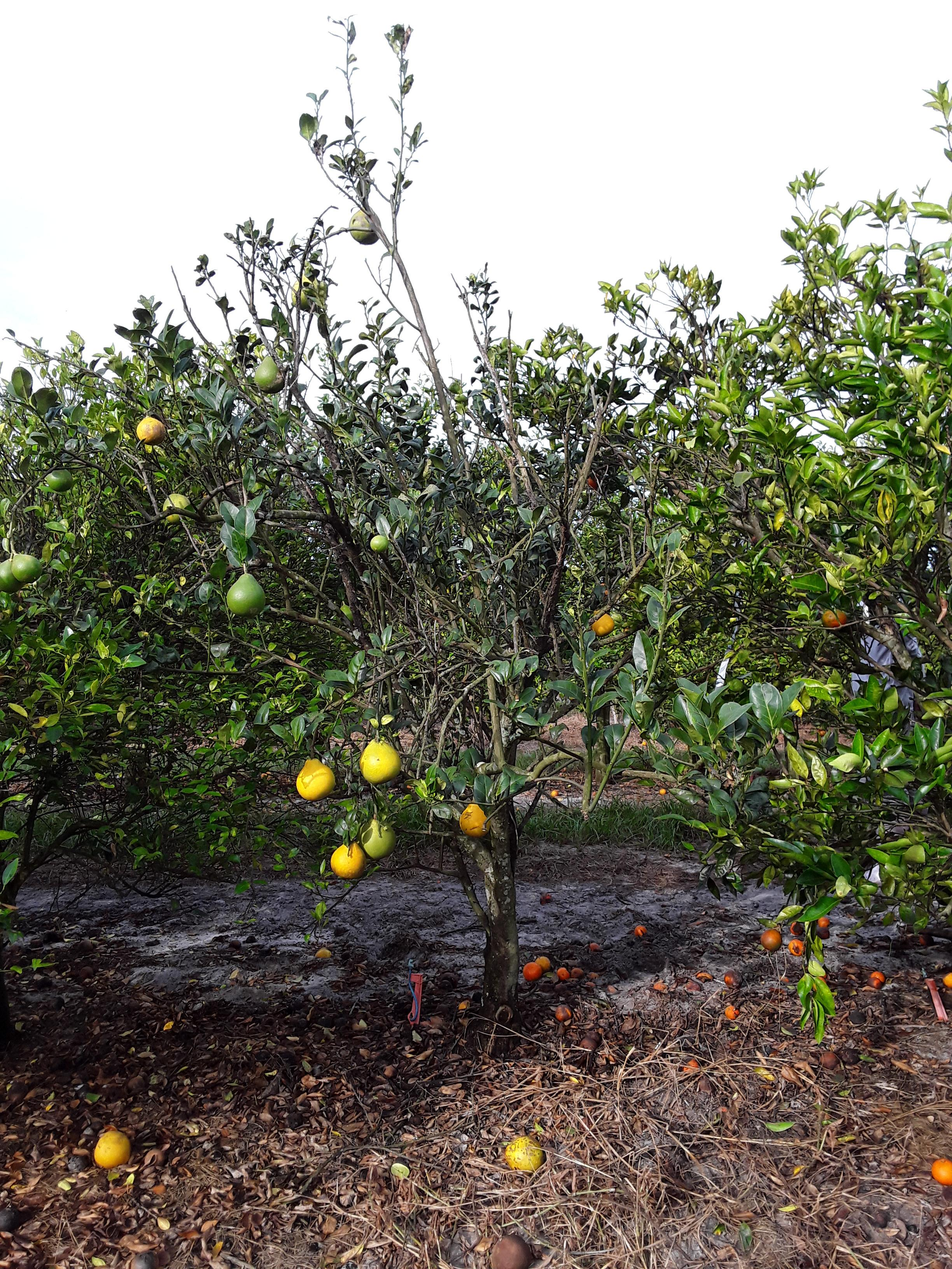fruit_on_ground: (353, 731, 404, 788), (224, 568, 274, 620), (340, 199, 391, 247), (283, 268, 332, 317), (290, 754, 341, 798), (329, 830, 366, 889), (253, 350, 292, 395), (362, 818, 397, 865), (450, 800, 492, 837), (11, 545, 47, 587), (131, 412, 172, 446), (156, 491, 193, 526), (0, 546, 19, 596), (593, 602, 620, 637), (45, 465, 79, 491), (819, 607, 852, 630), (364, 531, 394, 554), (759, 926, 783, 953), (583, 471, 609, 495)
fruit_on_tree: (504, 1132, 547, 1183), (88, 1127, 137, 1168), (489, 1227, 529, 1269), (929, 1154, 952, 1190), (723, 968, 746, 992), (4, 1204, 28, 1227), (134, 1249, 160, 1269), (534, 956, 560, 974), (520, 961, 543, 981), (678, 1055, 701, 1075), (579, 1033, 599, 1054), (840, 1045, 861, 1064), (819, 1049, 839, 1068), (284, 1112, 302, 1131), (553, 1004, 573, 1021), (586, 1025, 603, 1045), (871, 968, 889, 986), (788, 940, 807, 957), (723, 1005, 743, 1020), (556, 967, 572, 984), (790, 921, 805, 939), (316, 945, 334, 960), (699, 1076, 717, 1091), (459, 993, 471, 1015), (697, 969, 714, 984), (867, 976, 884, 991), (849, 1009, 866, 1024), (919, 932, 935, 947), (814, 926, 831, 940), (633, 923, 648, 938), (942, 971, 952, 991), (817, 912, 831, 926), (652, 980, 666, 994), (539, 892, 555, 904), (78, 967, 94, 978), (589, 940, 602, 953), (79, 940, 94, 951), (229, 938, 243, 949), (588, 971, 602, 982), (655, 785, 669, 796), (572, 967, 585, 978), (549, 788, 562, 799), (583, 982, 598, 991), (246, 935, 254, 940)
